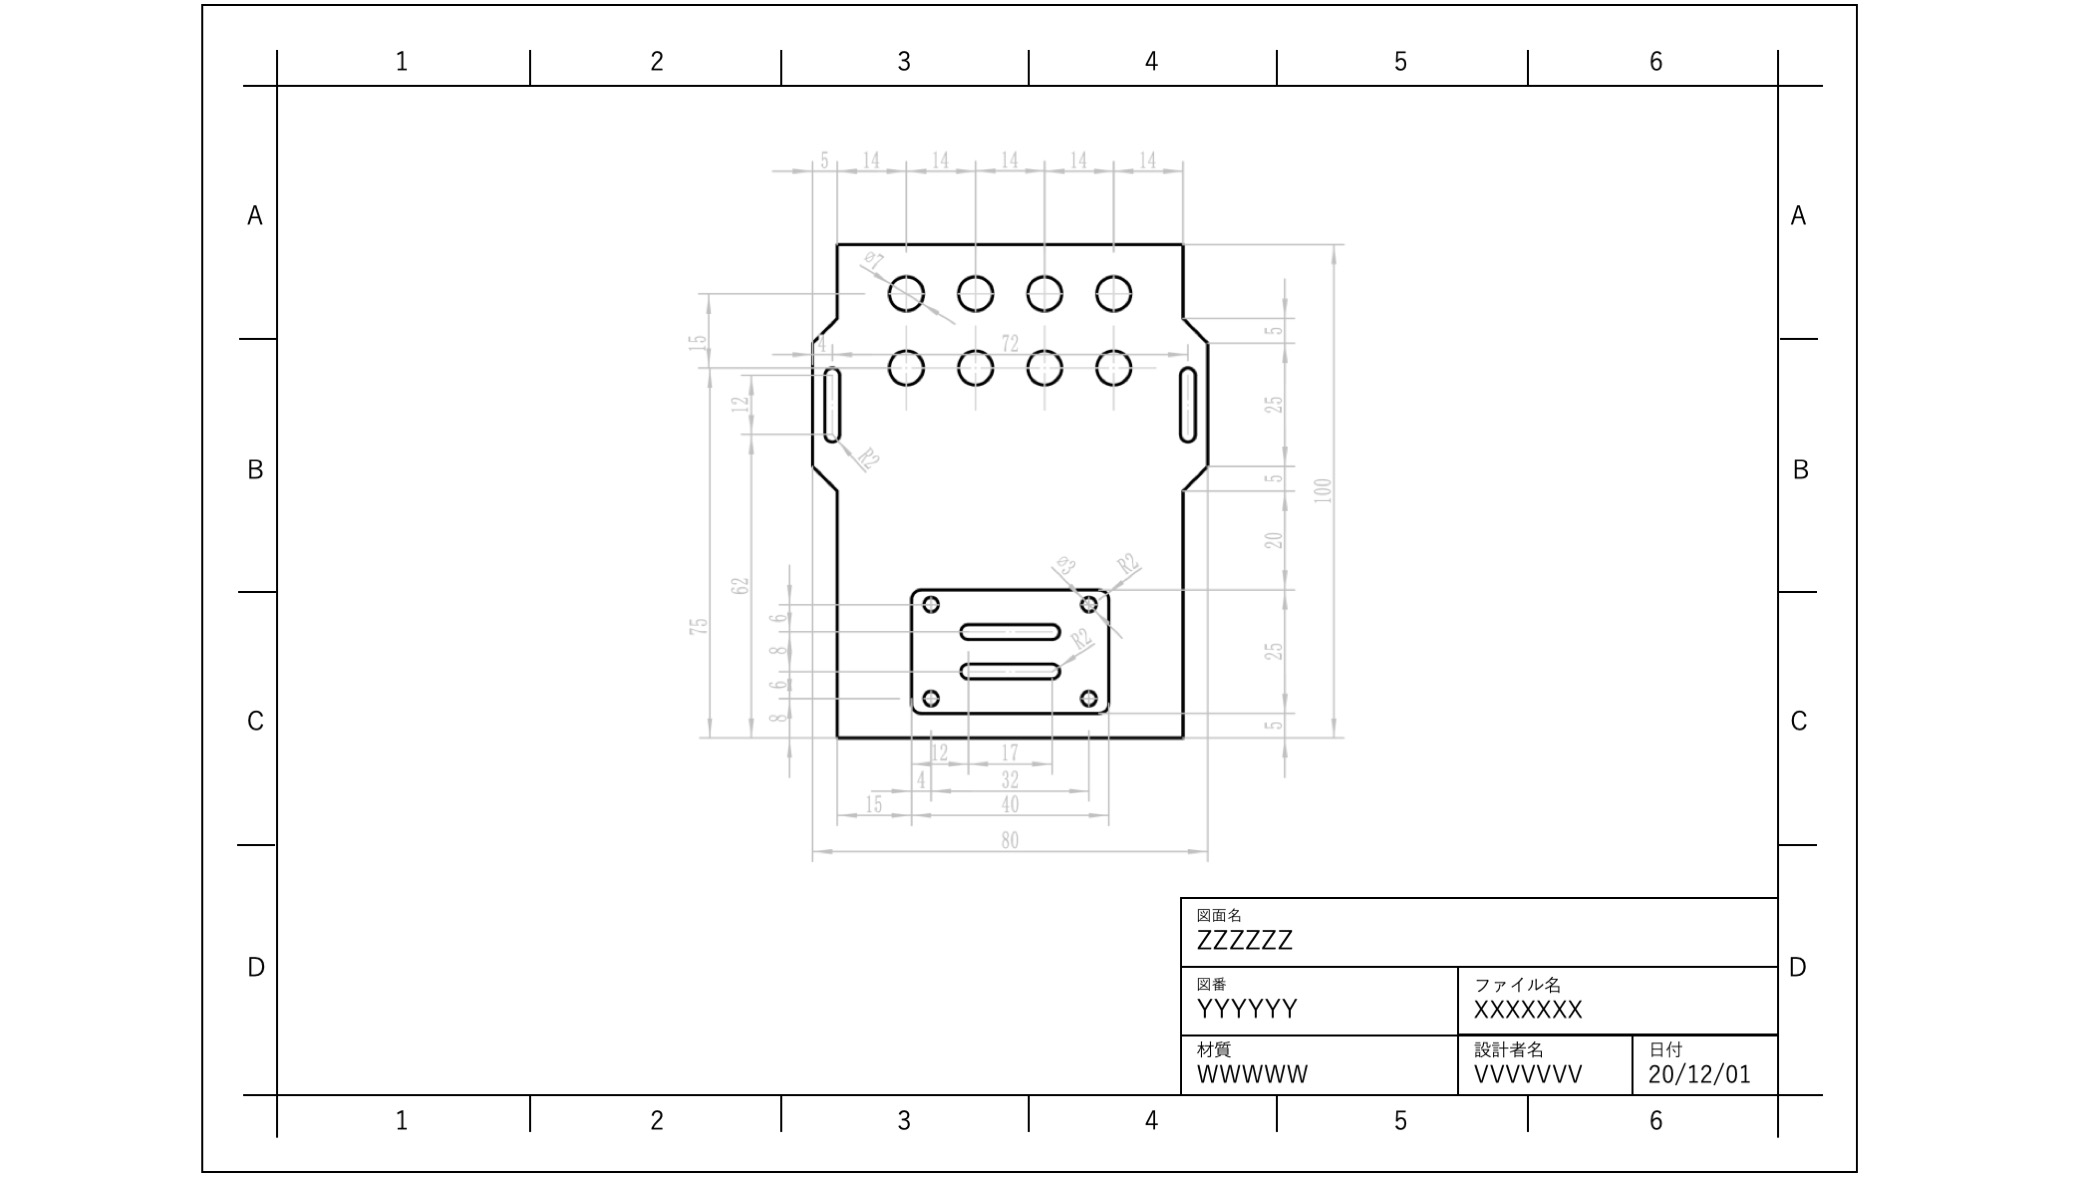circle: (1090, 271, 1139, 316), (884, 343, 926, 388), (883, 274, 927, 314), (955, 346, 997, 388), (955, 271, 997, 311), (1092, 346, 1135, 385), (1024, 271, 1064, 311), (1024, 345, 1063, 386), (1077, 686, 1100, 709), (920, 593, 940, 614), (922, 686, 940, 707), (1076, 594, 1098, 611)
round_rectangle: (952, 658, 1066, 686), (955, 620, 1064, 643), (1174, 361, 1200, 446), (819, 365, 842, 447)
